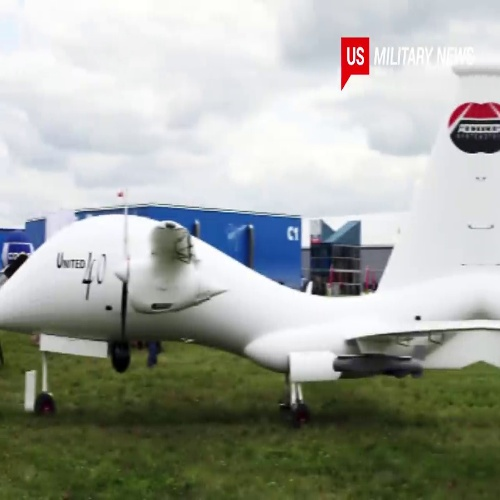uav444: (1, 50, 500, 411)
